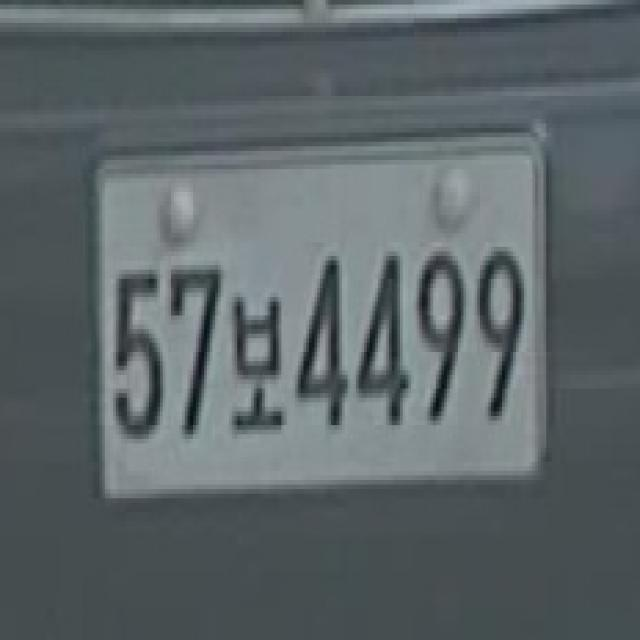4: (292, 241, 352, 441), (354, 240, 412, 438)
5: (114, 268, 169, 452)
7: (171, 260, 224, 449)
9: (471, 234, 528, 434), (418, 233, 468, 432)
bo: (232, 279, 289, 456)
license_plate: (88, 128, 558, 484)
